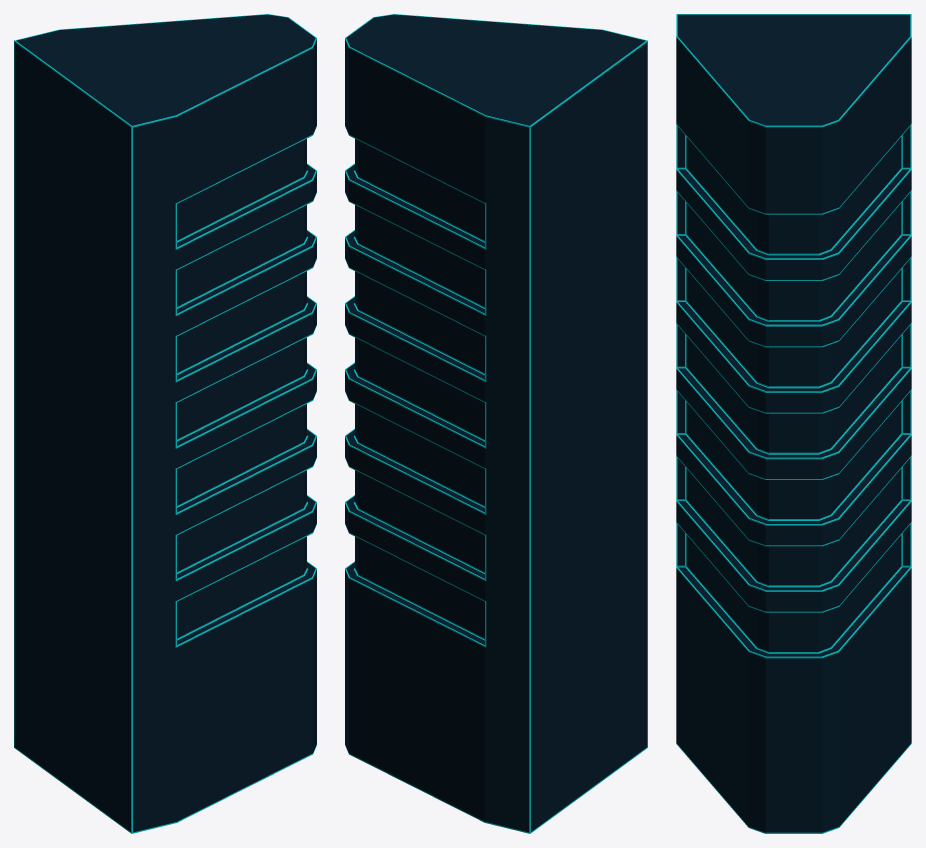
3 views of the same model, side by side, from view 1: azimuth 30°, elevation 25°; view 2: azimuth 150°, elevation 25°; view 3: azimuth 270°, elevation 25° (orthographic).
Visible parts, largest first — view 1: BuildingF01; view 2: BuildingF01; view 3: BuildingF01.
Boxes of the visible parts, box(x1,y1,x2,y2) form: BuildingF01: box(14, 14, 316, 833); BuildingF01: box(345, 14, 647, 833); BuildingF01: box(676, 14, 911, 833).
Bounding box in the file's own units: 36.95 × 109 × 32.77.
Materials: 1 (1 with a texture image).
